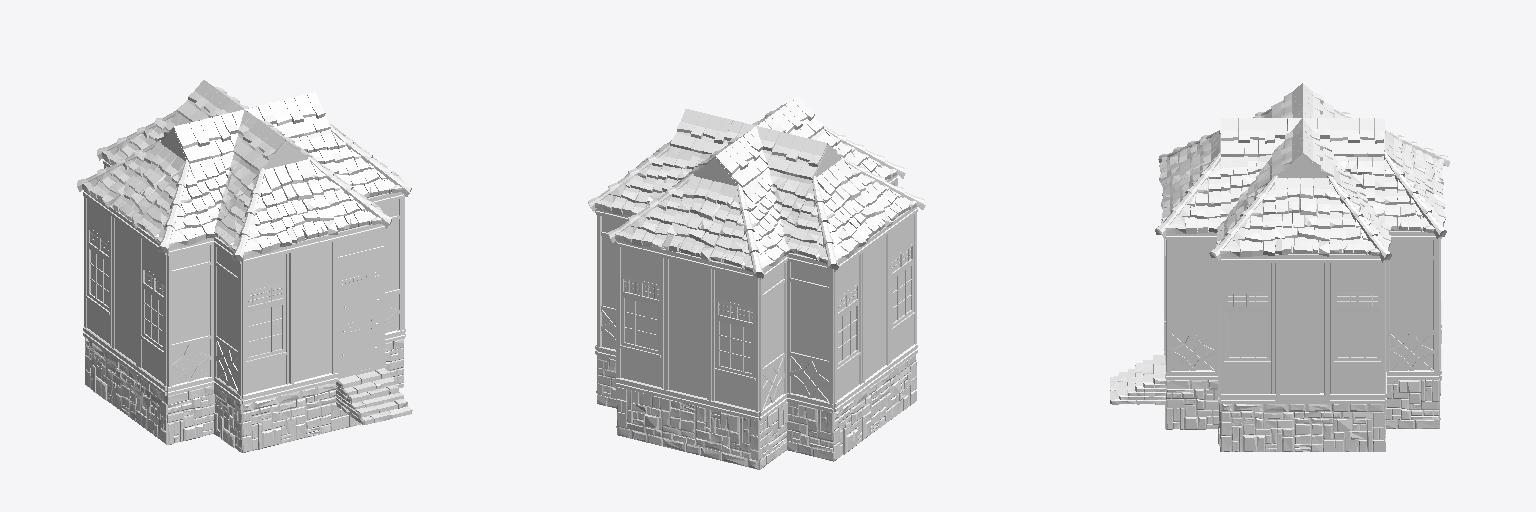
The model's file is house_03.obj.
3 views of the same model, side by side, from view 1: azimuth 30°, elevation 25°; view 2: azimuth 150°, elevation 25°; view 3: azimuth 270°, elevation 25° (orthographic).
Size of the model in its own units: 5.41 by 5.59 by 6.24.